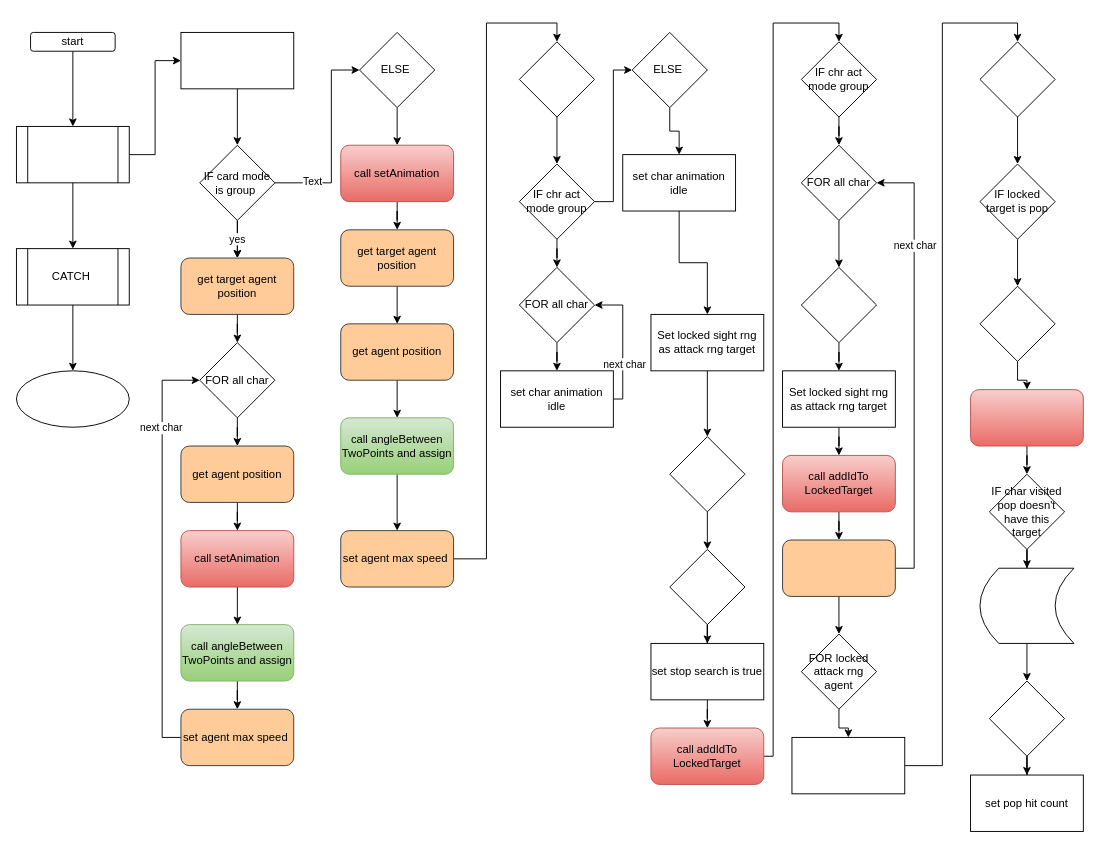
Image size: 1100x848. Some labels were removed from this diagram. Each missing label, with the box of its shape:
call stopForAttack: (970, 389, 1083, 446)
Construct the char stop animation: (180, 31, 294, 89)
End: (16, 370, 129, 427)
IF char dmg type is poe: (979, 285, 1055, 361)
IF char dmg type,hitspd,attack rng not NA: (979, 41, 1055, 117)
IF char is child/follower: (800, 266, 877, 343)
IF char itemspawn and poe: (988, 680, 1065, 756)
IF chr stop search and poe: (669, 436, 745, 512)
IF target agent locked any target: (669, 548, 745, 625)
set agent locked status true: (791, 736, 905, 794)
set agent max speed as 0: (782, 539, 895, 596)
store the pop grp leader: (979, 567, 1074, 643)
TIMEOUT char stop 0.5: (518, 41, 595, 117)
TRY: (16, 125, 129, 183)
